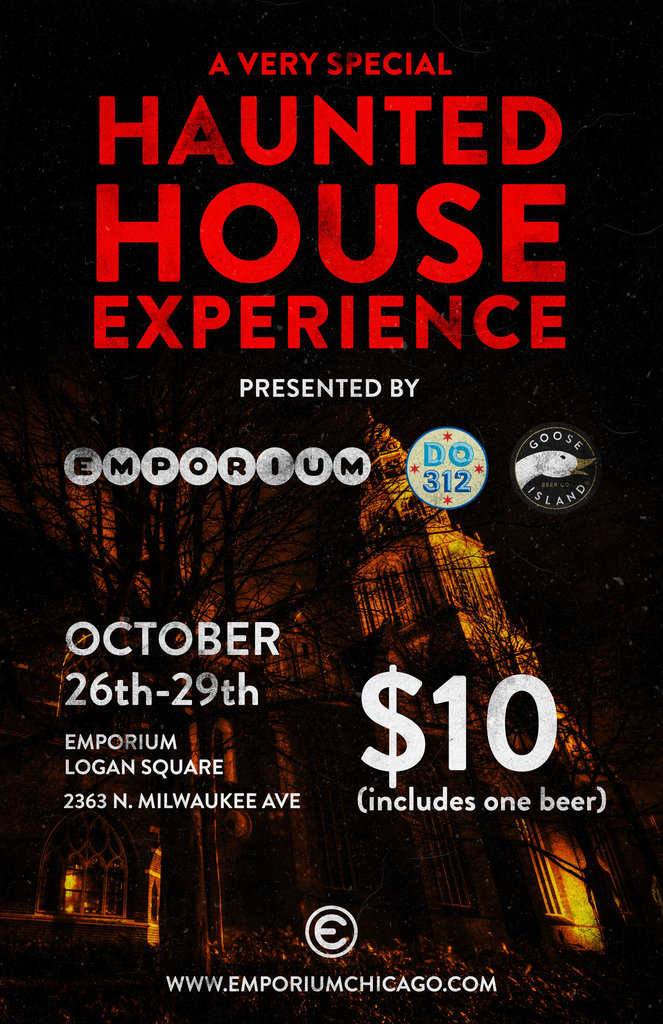Tree: (0, 317, 663, 1023)
